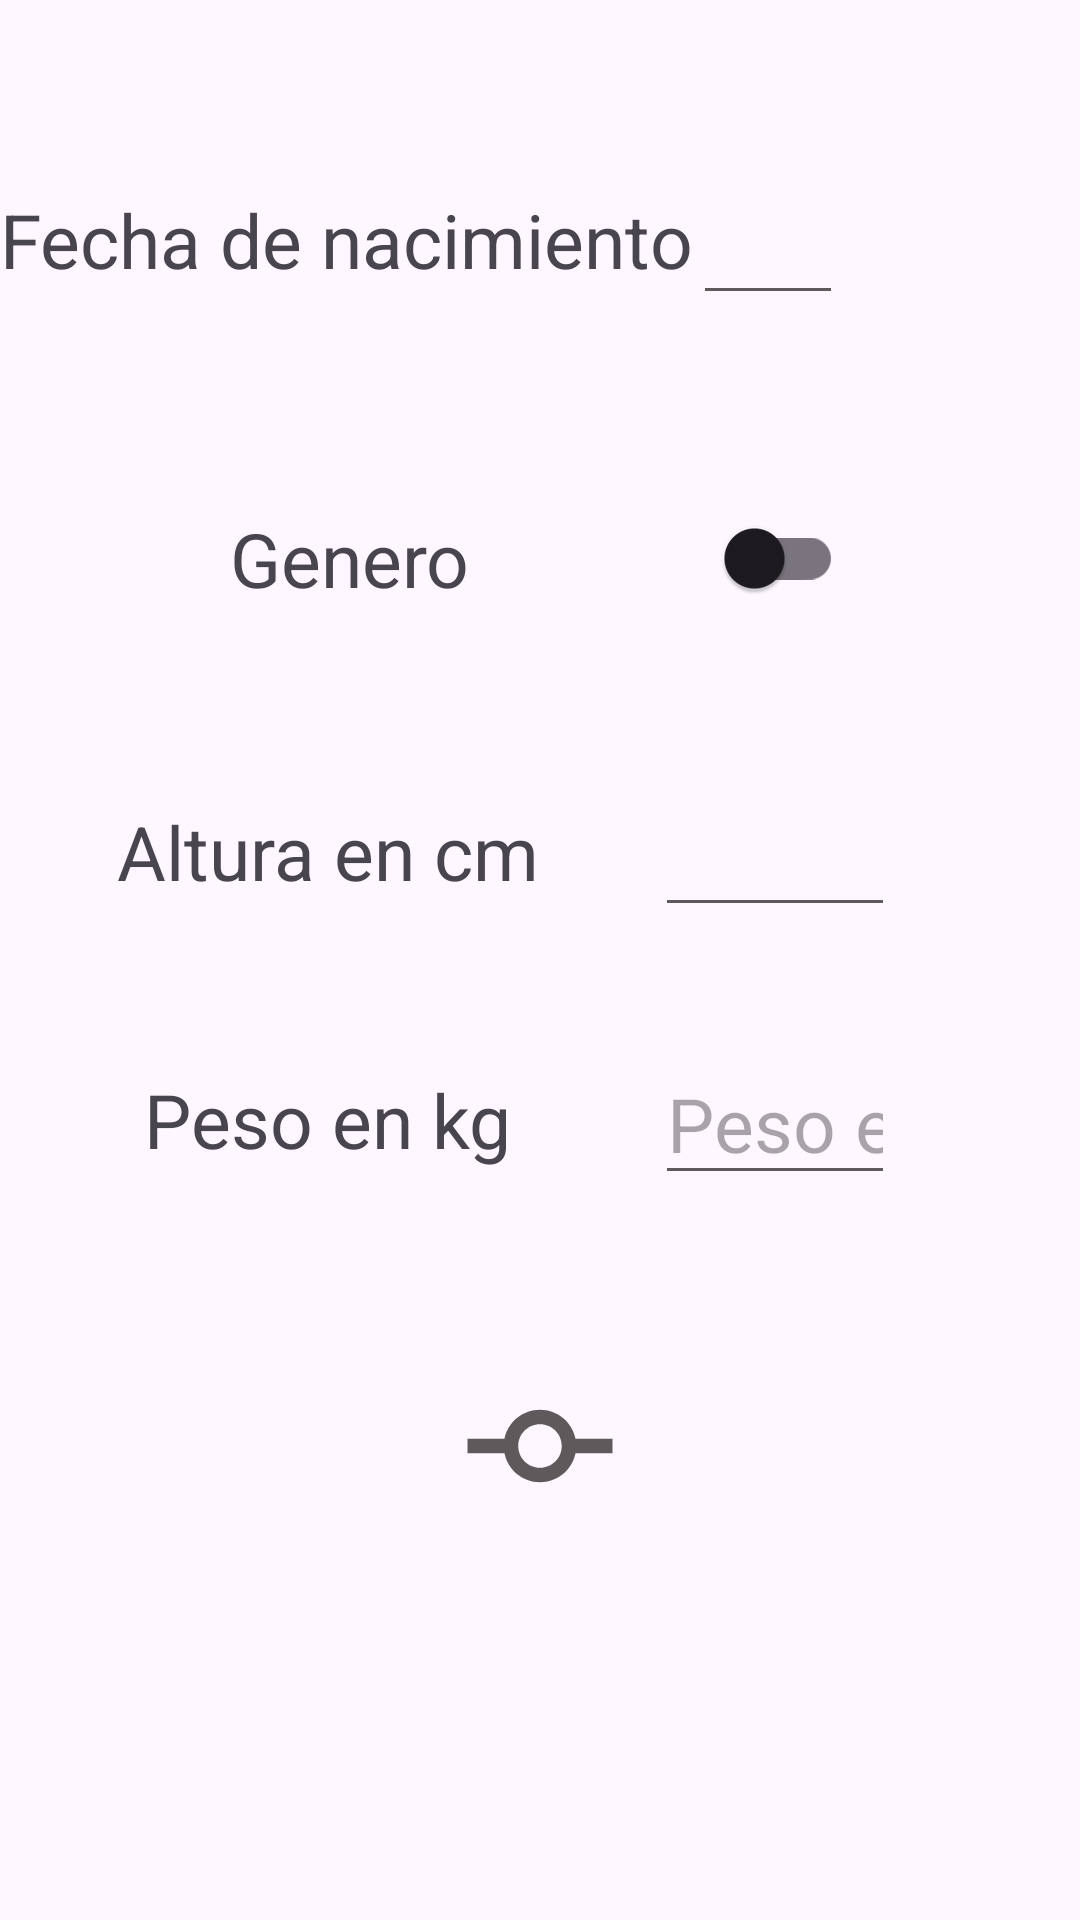

Where to tap for icons on this 1080×1920 app screen, as (x,y):
commit: (540,1446)
